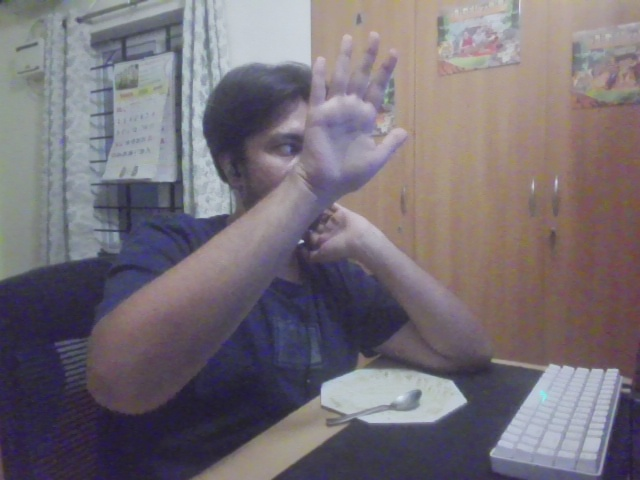hello: (304, 27, 414, 196)
